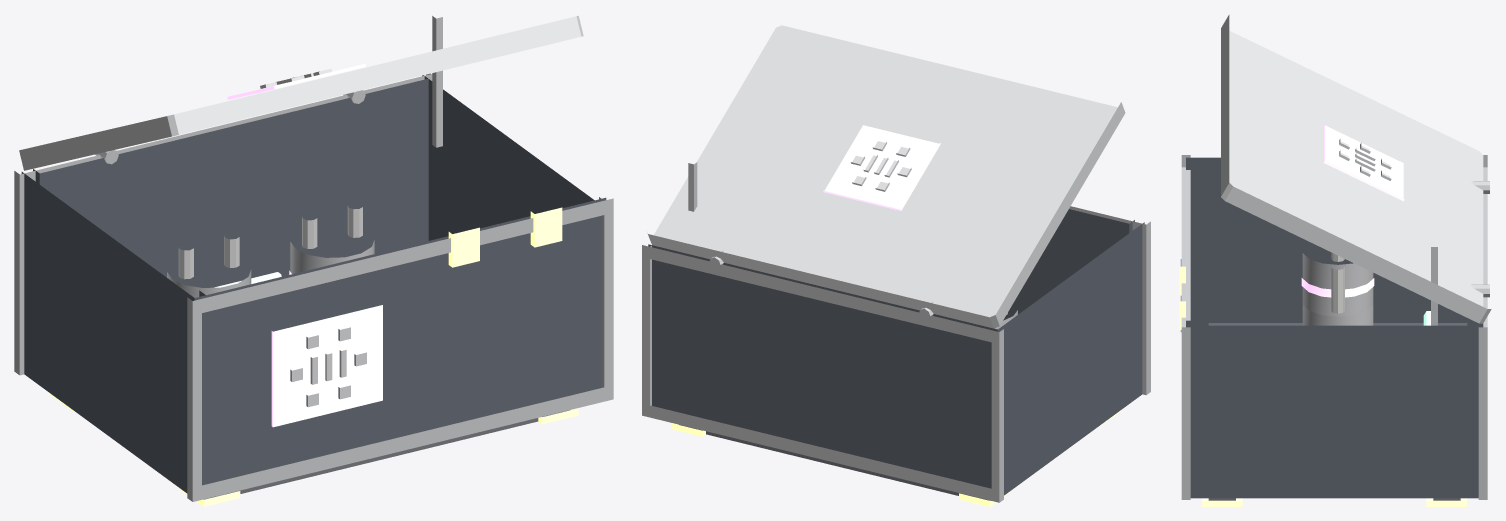
The model's file is iter_03_204.glb.
3 renders of one model, left to right at view 1: azimuth 30°, elevation 25°; view 2: azimuth 150°, elevation 25°; view 3: azimuth 270°, elevation 25°, orthographic. The views are drawn at different scales.
Visible parts, largest first — view 1: Body_204, Frame_204, Lid_204, Glyph_Plate_204, Latches_204, Emitter_ceramic_204, Glyph_Marks_204, Emitter_alloy_204, Skids_204, Lid_Prop_204, Floor_Clamps_204; view 2: Lid_204, Body_204, Frame_204, Lid_Glyph_204, Skids_204, Lid_Glyph_Marks_204; view 3: Body_204, Lid_204, Frame_204, Emitter_alloy_204, Lid_Glyph_204, Emitter_ceramic_204, Floor_Clamps_204, Lid_Glyph_Marks_204, Emitter_violet_204, Emitter_slate_204, Lid_Prop_204.
Part boxes in pixels (x1,y1,x2,y2): Body_204: (21,75,606,493); Frame_204: (14,73,613,501); Lid_204: (19,15,583,170); Glyph_Plate_204: (271,305,382,427); Latches_204: (448,207,562,267); Emitter_ceramic_204: (178,205,362,279); Glyph_Marks_204: (290,327,366,407); Emitter_alloy_204: (167,240,374,297); Skids_204: (204,410,569,499); Lid_Prop_204: (432,16,442,147); Floor_Clamps_204: (49,393,578,506); Lid_204: (647,25,1125,328); Body_204: (648,209,1144,495); Frame_204: (642,206,1150,502); Lid_Glyph_204: (823,125,940,210); Skids_204: (679,424,989,500); Lid_Glyph_Marks_204: (850,141,911,191); Body_204: (1186,157,1483,498); Lid_204: (1221,14,1491,323); Frame_204: (1181,155,1487,499); Emitter_alloy_204: (1302,253,1373,325); Lid_Glyph_204: (1323,123,1404,201); Emitter_ceramic_204: (1331,252,1344,313); Floor_Clamps_204: (1202,498,1467,506); Lid_Glyph_Marks_204: (1339,139,1391,180); Emitter_violet_204: (1301,278,1374,297); Emitter_slate_204: (1208,323,1467,325); Lid_Prop_204: (1431,247,1437,325).
Bounding box in the file's own units: 0.92 × 0.8028 × 0.6888.
